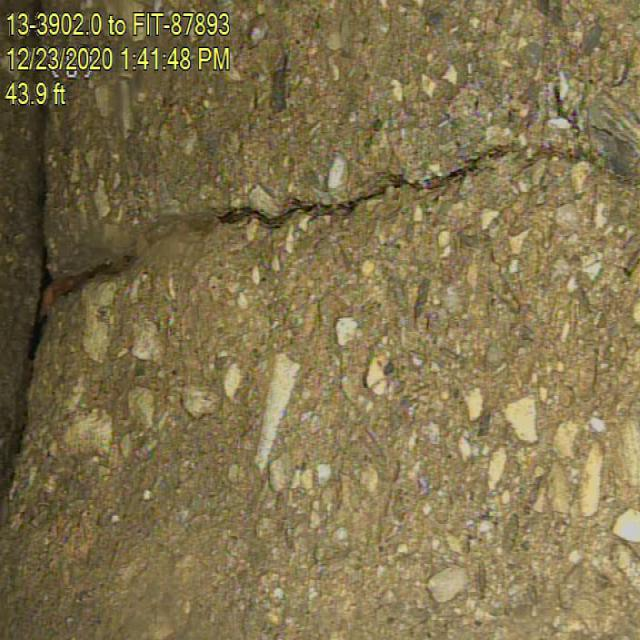Crack: (80, 82, 623, 313)
